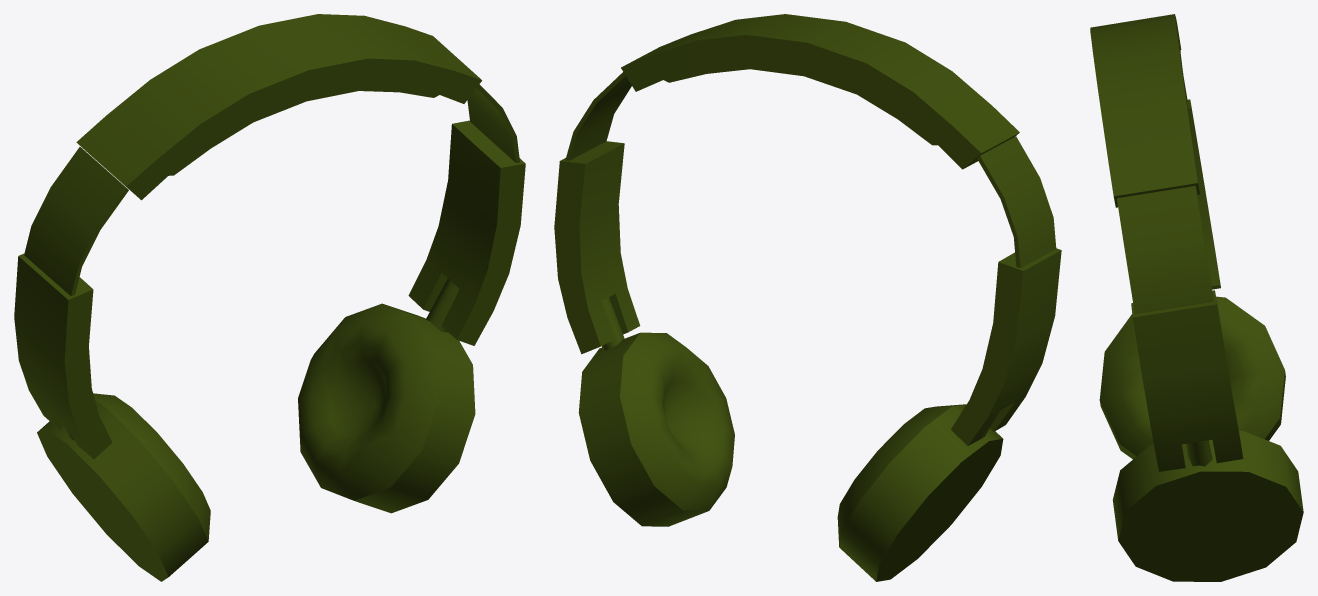
The model's file is Headphone01_M.fbx.
The picture shows the model from 3 angles, left to right: view 1: azimuth 30°, elevation 25°; view 2: azimuth 150°, elevation 25°; view 3: azimuth 270°, elevation 25°; orthographic projection. The views are drawn at different scales.
Parts seen in each view (by area): view 1: Headphone01; view 2: Headphone01; view 3: Headphone01.
Part boxes in pixels (bbox=[...]): Headphone01: bbox=[14, 14, 525, 581]; Headphone01: bbox=[554, 14, 1061, 581]; Headphone01: bbox=[1090, 14, 1303, 581].
Size of the model in its own units: 0.0937 by 0.0989 by 0.0389.
